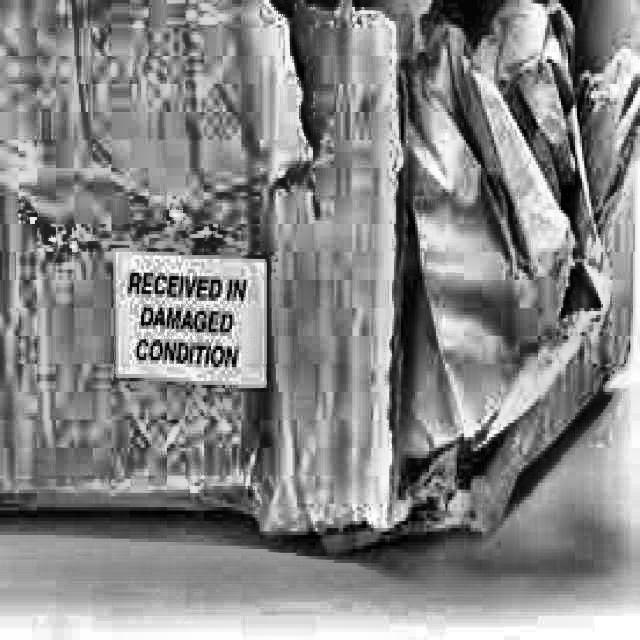box: (2, 0, 639, 565)
hole: (393, 421, 519, 517)
